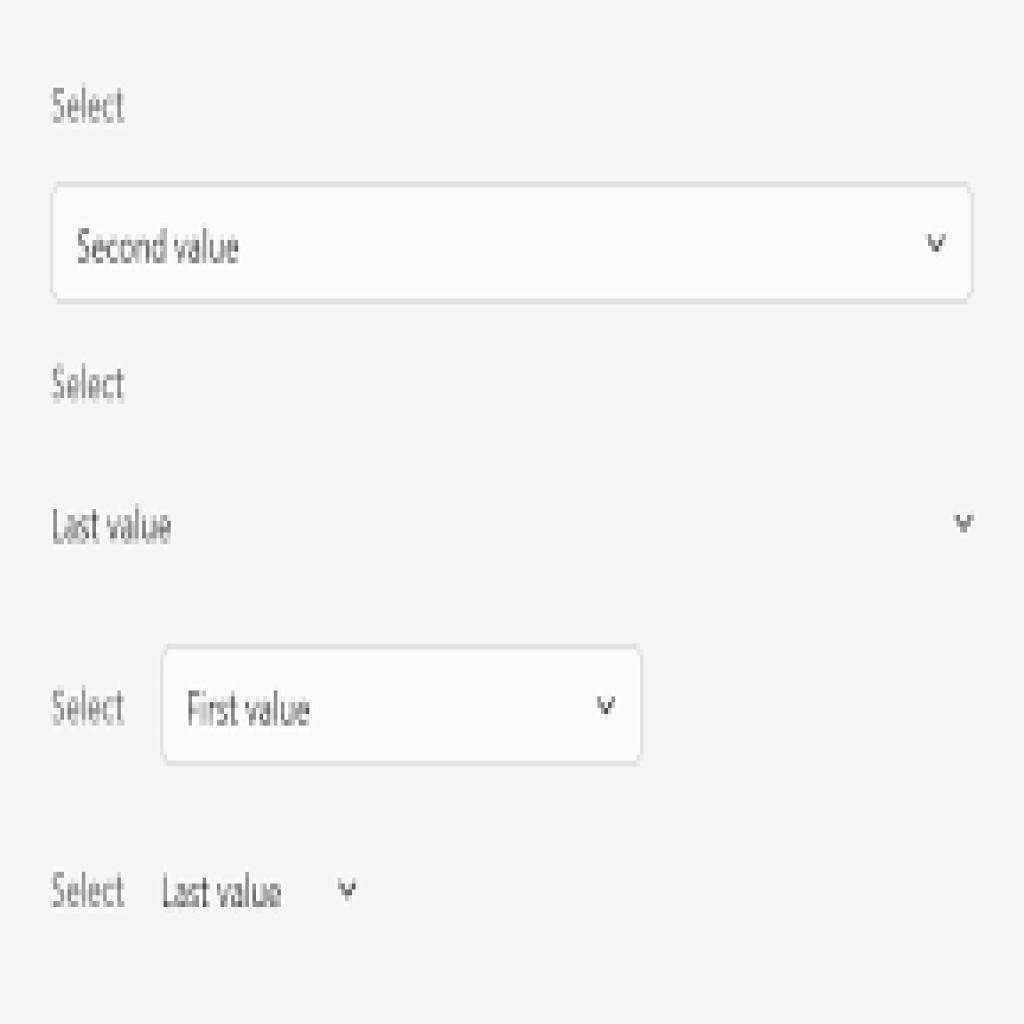dropdown: (53, 194, 978, 297), (164, 649, 649, 768)
label: (45, 361, 147, 420), (49, 865, 136, 921), (45, 84, 144, 132), (45, 684, 130, 735)
